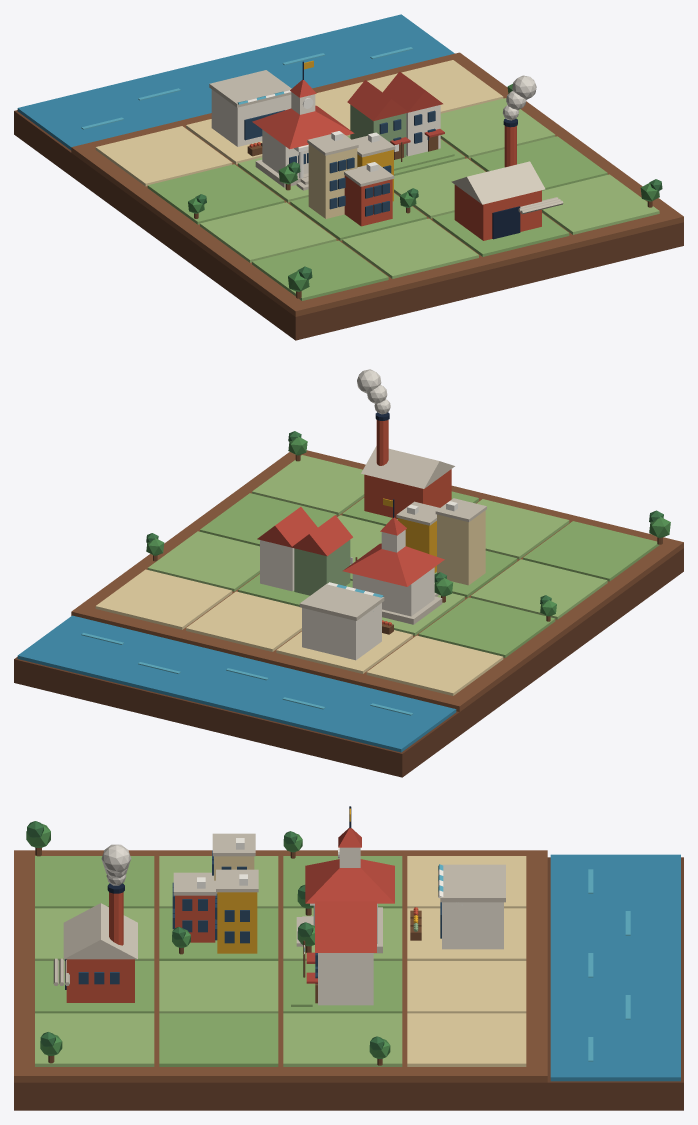
Rendered from mandato_prototipo.glb.
The picture shows the model from 3 angles, top to bottom: view 1: azimuth 30°, elevation 25°; view 2: azimuth 150°, elevation 25°; view 3: azimuth 270°, elevation 25°; orthographic projection. The views are drawn at different scales.
Parts seen in each view (by area): view 1: Cube.094, Cube.092, Cube.093, Cube.113, Cube.100, Cube.108, Cube.104, Cube.115, Cube.112, Cube.107, Cube.111, Cube.103 (+26 smaller); view 2: Cube.094, Cube.092, Cube.093, Cube.100, Cube.103, Cube.112, Cube.104, Cube.102, Cube.108, Cube.107, Cube.115, Cube.113 (+20 smaller); view 3: Cube.094, Cube.093, Cube.092, Cube.103, Cube.111, Cube.102, Cube.110, Cube.107, Cube.115, Cube.112, Cone, Cube.101 (+24 smaller).
Part boxes in pixels (x1,y1,x2,y2): Cube.094: (17, 14, 454, 150); Cube.092: (14, 110, 683, 340); Cube.093: (71, 52, 683, 316); Cube.113: (342, 218, 478, 278); Cube.100: (95, 126, 232, 186); Cube.108: (200, 202, 336, 262); Cube.104: (147, 164, 284, 224); Cube.115: (542, 174, 659, 234); Cube.112: (252, 240, 388, 300); Cube.107: (440, 98, 555, 158); Cube.111: (471, 136, 607, 190); Cube.103: (367, 60, 503, 113); Cube.094: (17, 615, 456, 752); Cube.092: (14, 548, 683, 777); Cube.093: (71, 450, 683, 711); Cube.100: (366, 635, 503, 695); Cube.103: (95, 569, 232, 629); Cube.112: (523, 521, 659, 581); Cube.104: (418, 597, 555, 657); Cube.102: (186, 591, 301, 651); Cube.108: (471, 559, 607, 619); Cube.107: (147, 531, 259, 591); Cube.115: (252, 455, 364, 515); Cube.113: (477, 499, 569, 559); Cube.094: (550, 854, 680, 1081); Cube.093: (14, 850, 547, 1082); Cube.092: (14, 857, 683, 1110); Cube.103: (407, 1013, 526, 1066); Cube.111: (159, 1013, 278, 1066); Cube.102: (407, 961, 526, 1013); Cube.110: (159, 961, 278, 1013); Cube.107: (283, 1013, 402, 1066); Cube.115: (35, 1013, 154, 1066); Cube.112: (35, 856, 154, 908); Cone: (305, 859, 394, 903); Cube.101: (407, 908, 526, 960).
Size of the model in its own units: 8.6 by 3.52 by 10.8.
